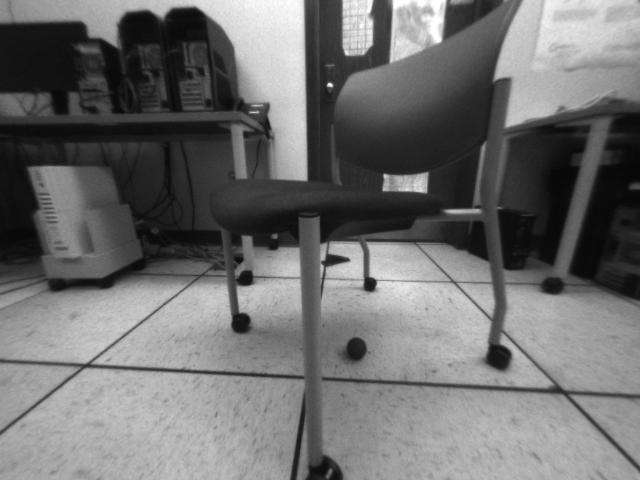dogtoy: (340, 330, 372, 365)
